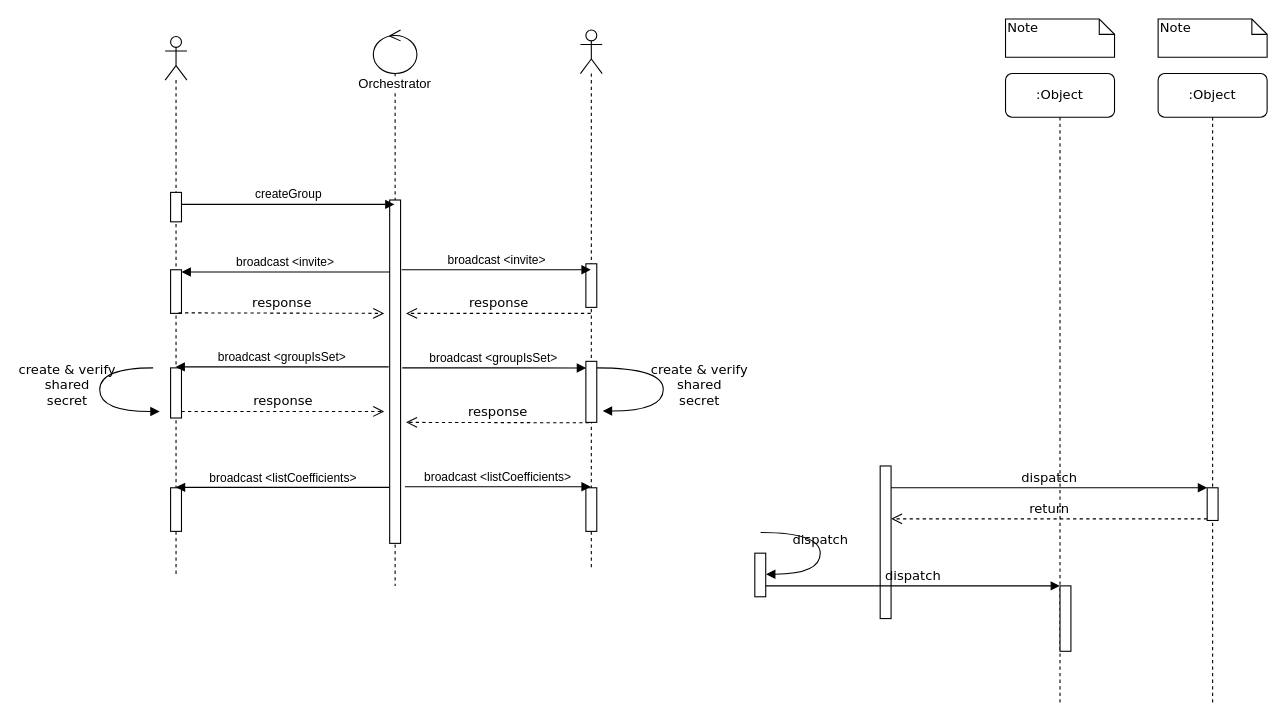
This 1286x725 diagram has some shape labels left out. The shapes that lost their labels are listed below. From the top down, each one's box as (x1, y1, x2, y2) in pixels, then its label:
(164, 35, 187, 575): Player_1
(579, 29, 602, 570): Player_2
